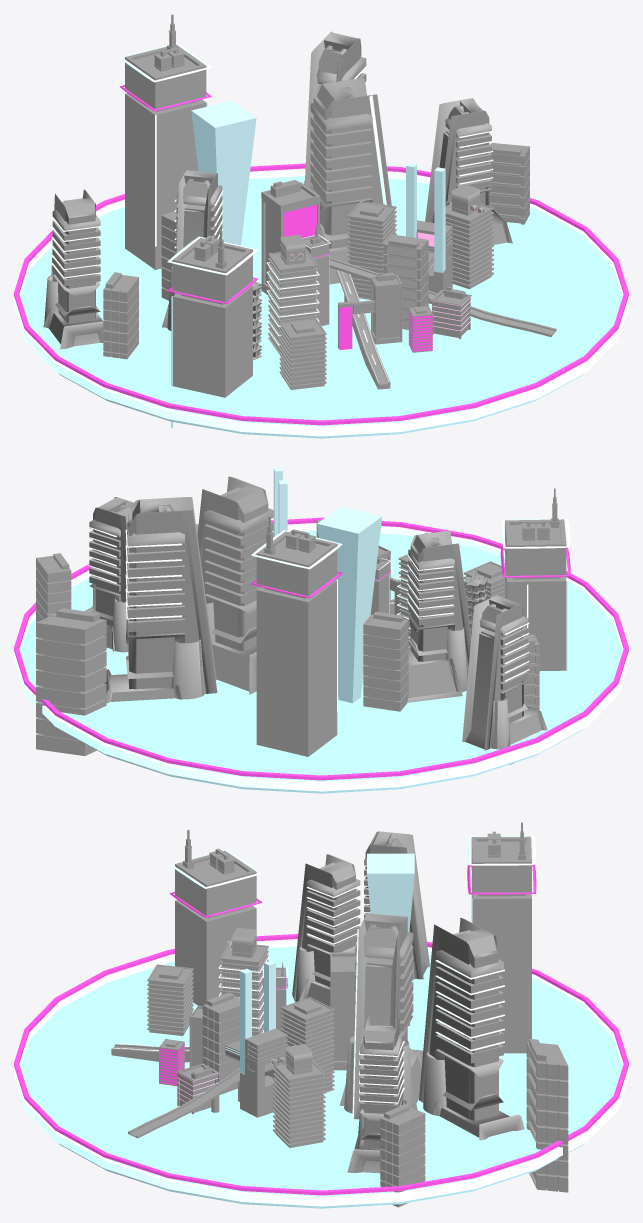
The model's file is homeCompress.gltf.
3 renders of one model, top to bottom at view 1: azimuth 30°, elevation 25°; view 2: azimuth 150°, elevation 25°; view 3: azimuth 270°, elevation 25°, orthographic.
Parts seen in each view (by area): view 1: polySurface4422, pasted__polySurface4374, pasted__pasted__polySurface4374, polySurface4377, polySurface4423, pasted__polySurface4391.001, pasted__polySurface4423, pCube5, pasted__polySurface4391, pasted__polySurface4378, polySurface4378, polySurface4391.001 (+20 smaller); view 2: polySurface4422, pasted__polySurface4374, pasted__pasted__polySurface4391.001, polySurface4377, polySurface4391.001, pasted__polySurface4391.001, polySurface4423, pasted__pasted__pasted__group5_pasted__pasted__pasted___d2c9, pasted__pasted__polySurface4374, pCube5, pasted__polySurface4423, pasted__polySurface4391 (+9 smaller); view 3: polySurface4422, pasted__pasted__polySurface4391.001, pasted__polySurface4374, polySurface4423, pasted__pasted__polySurface4374, polySurface4377, polySurface4391.001, pasted__polySurface4423, pasted__pasted__pasted__group5_pasted__pasted__pasted___d2c9, pasted__polySurface4391, pasted__polySurface4378, pasted__pasted__group5_pasted__pasted__pasted__pasted___8b89 (+16 smaller).
Boxes of the visible parts, left/top/right/bottom form: polySurface4422: left=20, top=176, right=622, bottom=438; pasted__polySurface4374: left=125, top=14, right=206, bottom=269; pasted__pasted__polySurface4374: left=172, top=230, right=252, bottom=397; polySurface4377: left=310, top=78, right=395, bottom=284; polySurface4423: left=14, top=169, right=628, bottom=436; pasted__polySurface4391.001: left=43, top=189, right=103, bottom=349; pasted__polySurface4423: left=14, top=163, right=628, bottom=425; pCube5: left=191, top=100, right=256, bottom=245; pasted__polySurface4391: left=425, top=98, right=512, bottom=244; pasted__polySurface4378: left=445, top=184, right=493, bottom=289; polySurface4378: left=268, top=234, right=317, bottom=353; polySurface4391.001: left=162, top=170, right=222, bottom=330; polySurface4422: left=20, top=530, right=622, bottom=793; pasted__polySurface4374: left=256, top=516, right=337, bottom=756; pasted__pasted__polySurface4391.001: left=104, top=497, right=217, bottom=703; polySurface4377: left=197, top=476, right=273, bottom=694; polySurface4391.001: left=407, top=531, right=471, bottom=702; pasted__polySurface4391.001: left=462, top=595, right=547, bottom=764; polySurface4423: left=14, top=524, right=628, bottom=791; pasted__pasted__pasted__group5_pasted__pasted__pasted___d2c9: left=36, top=608, right=106, bottom=755; pasted__pasted__polySurface4374: left=505, top=488, right=566, bottom=670; pCube5: left=317, top=506, right=382, bottom=703; pasted__polySurface4423: left=14, top=517, right=628, bottom=780; pasted__polySurface4391: left=85, top=497, right=134, bottom=652; polySurface4422: left=20, top=946, right=622, bottom=1208; pasted__pasted__polySurface4391.001: left=419, top=917, right=524, bottom=1140; pasted__polySurface4374: left=471, top=822, right=531, bottom=1053; polySurface4423: left=14, top=940, right=628, bottom=1206; pasted__pasted__polySurface4374: left=175, top=829, right=256, bottom=1006; polySurface4377: left=339, top=913, right=423, bottom=1119; polySurface4391.001: left=292, top=854, right=360, bottom=1006; pasted__polySurface4423: left=14, top=934, right=628, bottom=1195; pasted__pasted__pasted__group5_pasted__pasted__pasted___d2c9: left=526, top=1039, right=568, bottom=1192; pasted__polySurface4391: left=347, top=1017, right=407, bottom=1173; pasted__polySurface4378: left=273, top=1044, right=325, bottom=1147; pasted__pasted__group5_pasted__pasted__pasted__pasted___8b89: left=380, top=1104, right=425, bottom=1207.
Size of the model in its own units: 0.6519 by 0.3135 by 0.6519.
